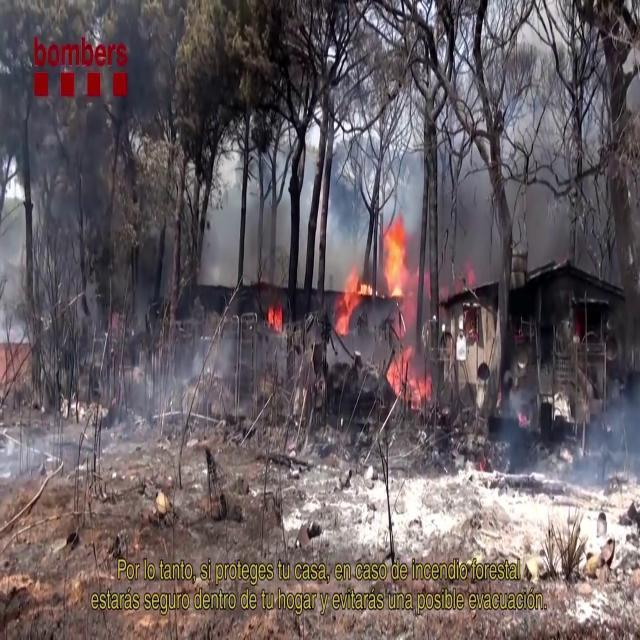Fire: (386, 331, 430, 408), (380, 214, 412, 300), (334, 262, 372, 334), (264, 292, 286, 338)
